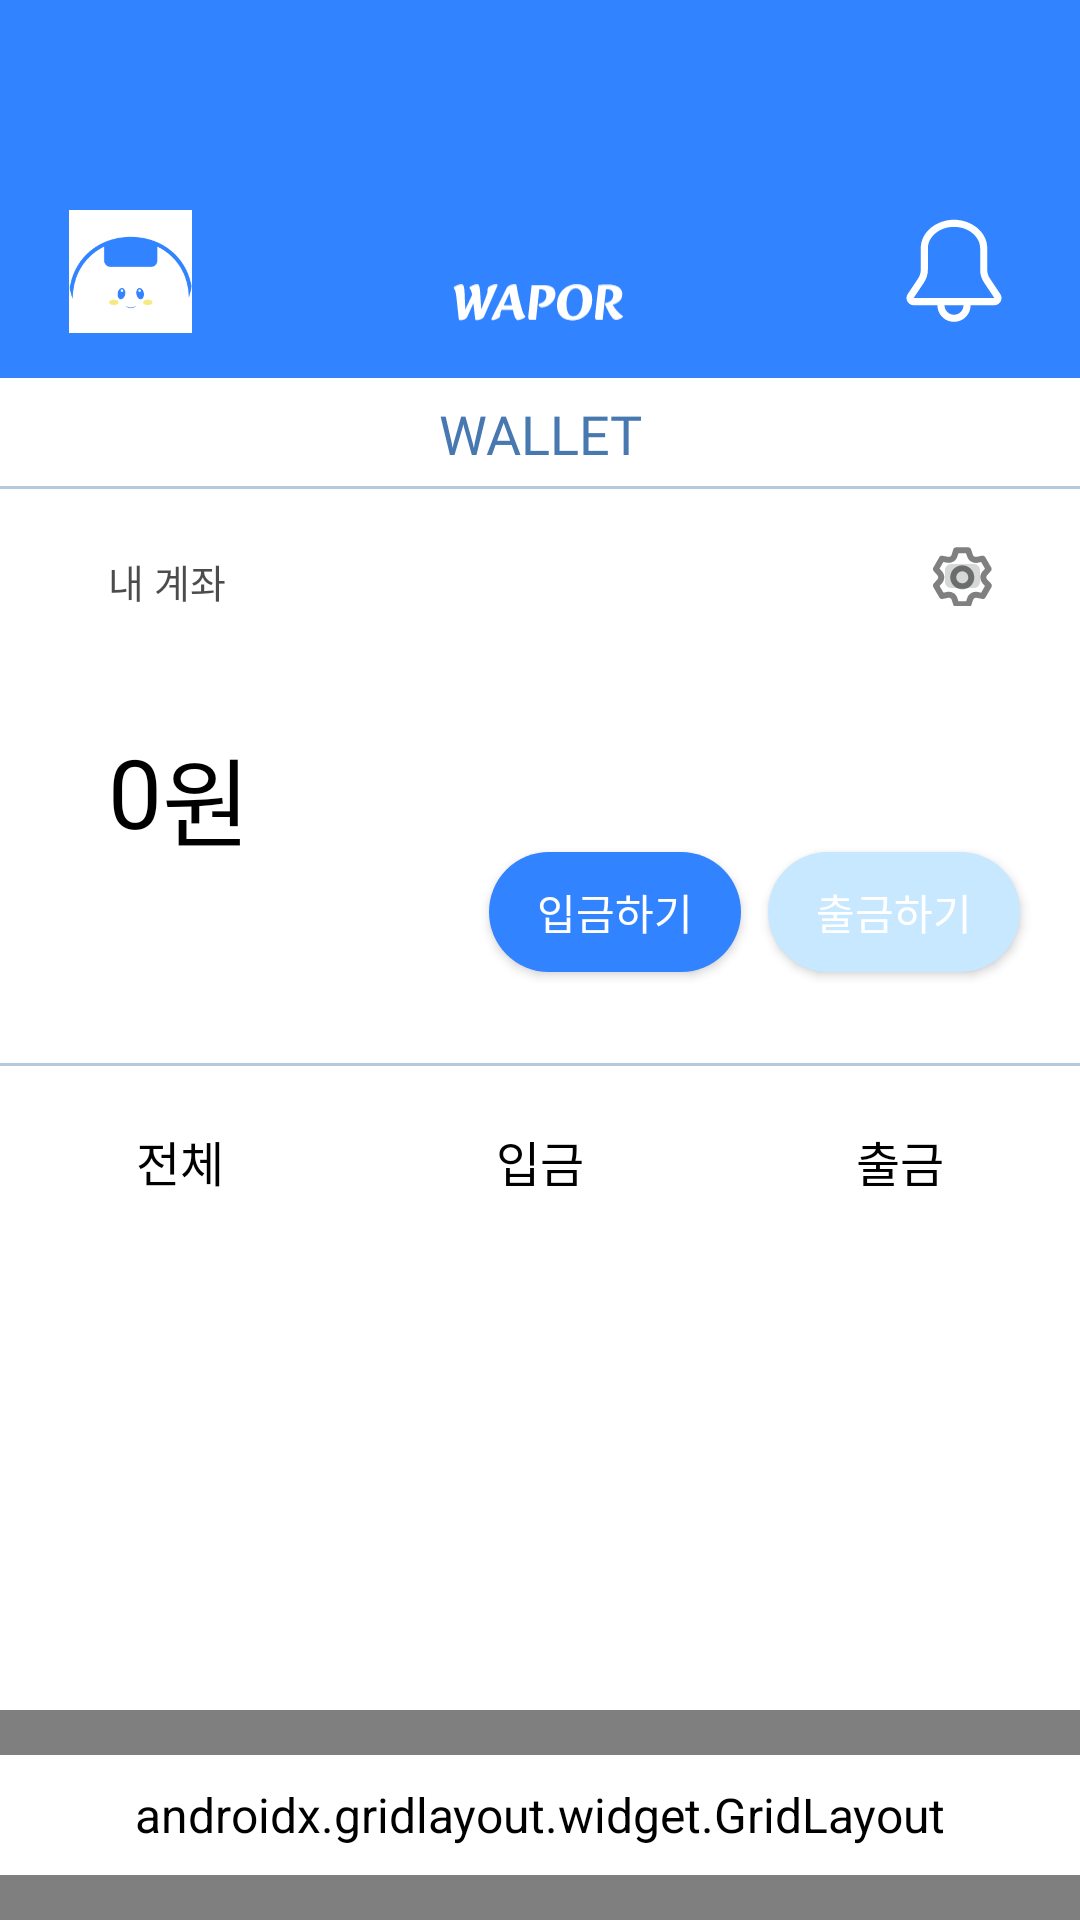

Point at icon controls on the screen. Image size 1080 x 1920, points as point (x, y).
alarm: point (954, 270)
setting: point (962, 576)
